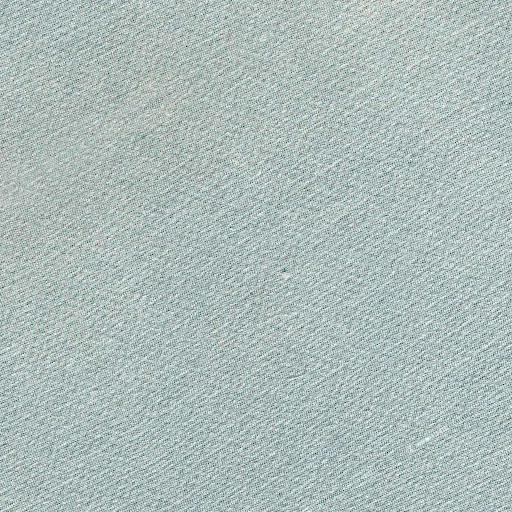knot: (276, 260, 302, 290)
